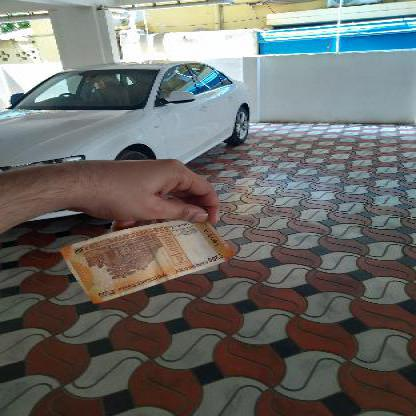New200Back: (55, 213, 235, 305)
